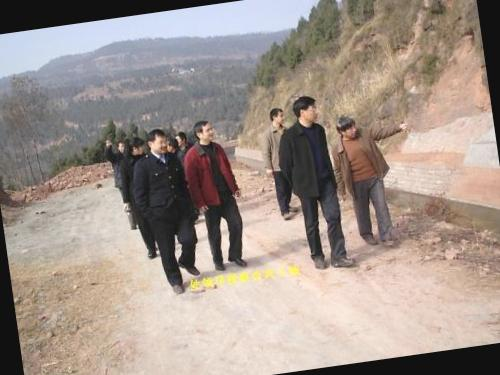no_helmet: (330, 105, 365, 146), (288, 90, 322, 128), (189, 116, 216, 144), (145, 127, 168, 155), (123, 134, 145, 158), (266, 104, 287, 128), (172, 128, 188, 148), (114, 136, 127, 154)
